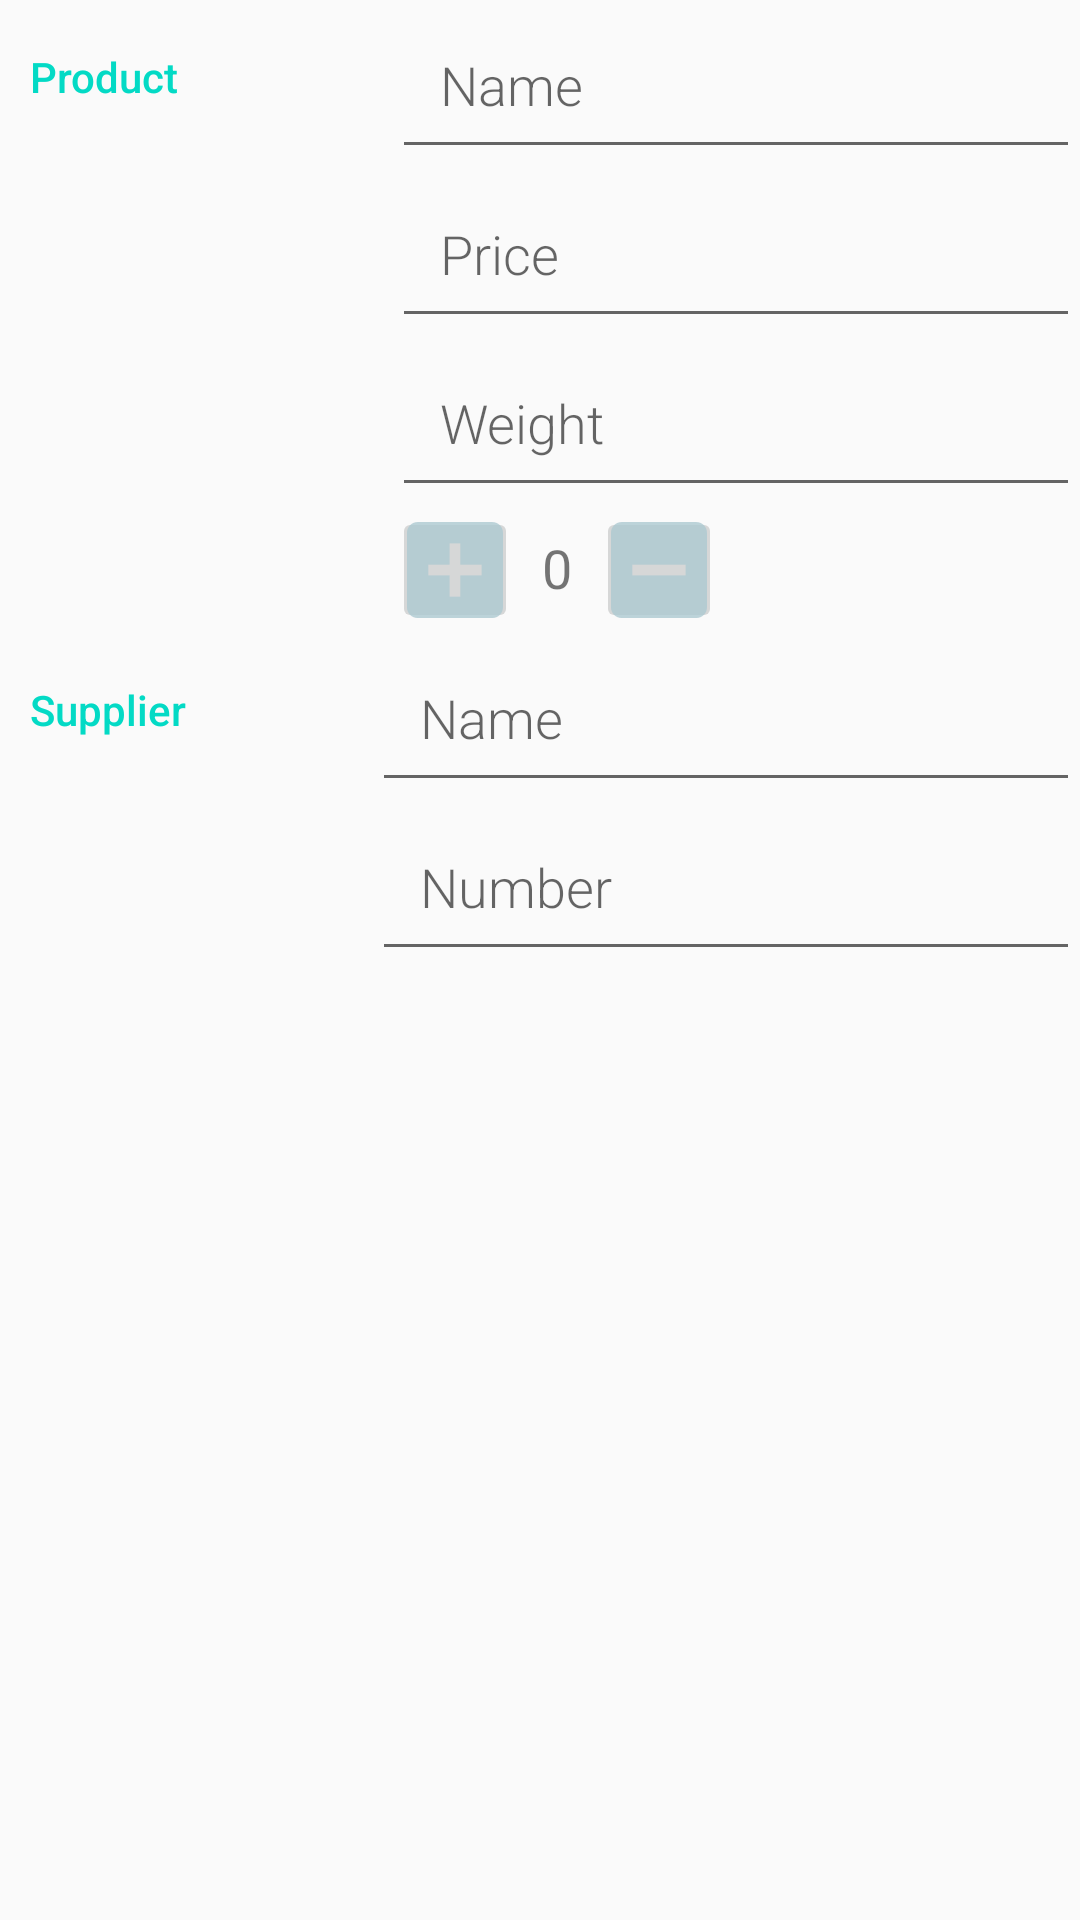

Icons on this 1080*1920 Android screen, each with its box as rect(x1, y1, x2, y2):
add quantity: rect(404, 522, 506, 618)
subtract quantity: rect(608, 522, 710, 618)
